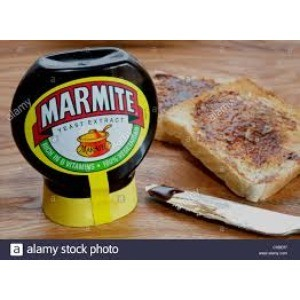yeast spread_brain food: (17, 55, 156, 191)
